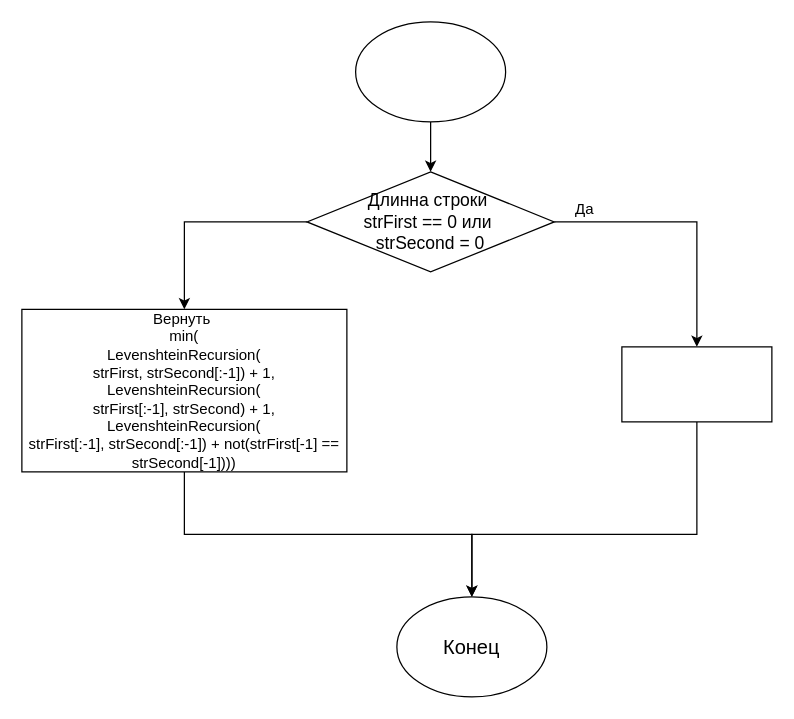
Image size: 794x719. Some labels were removed from this diagram. Here are the shapes that lost their labels. From the top down, the centre of each, then its label:
At (430,71): "Начало".
At (696,384): "Вернуть разность длин строк".
